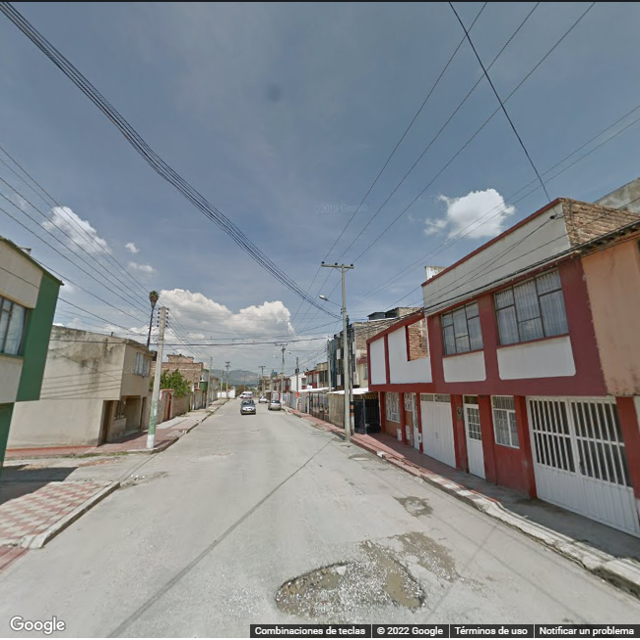D40: (271, 559, 352, 618), (367, 544, 423, 608), (397, 493, 435, 513)
